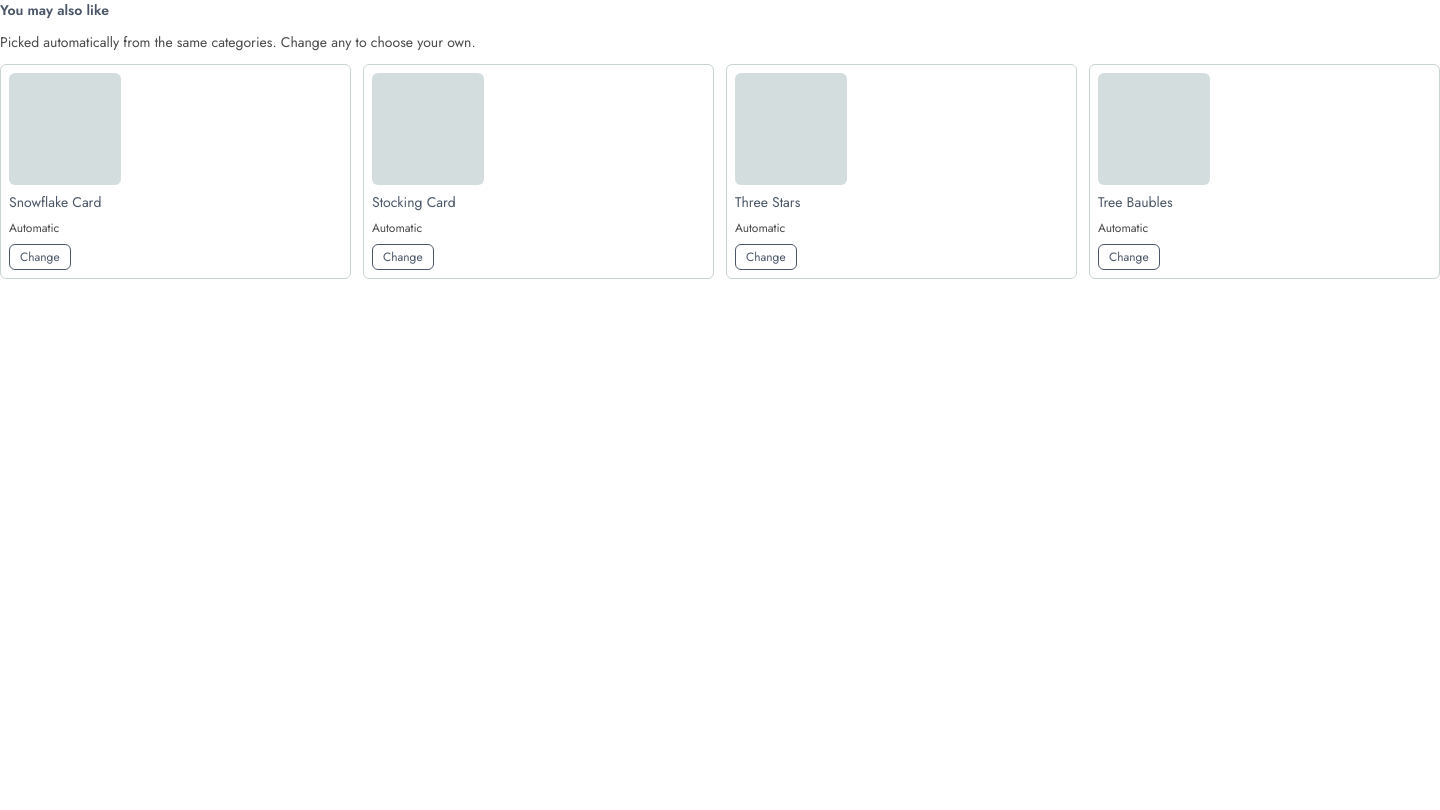
Scenario: AlsoLikeField › does not offer a piece already in the row
The image size is (1440, 810).
Click the button with aria-label "Change Snowflake Card" at x=40, y=257, box [9,244,71,270]
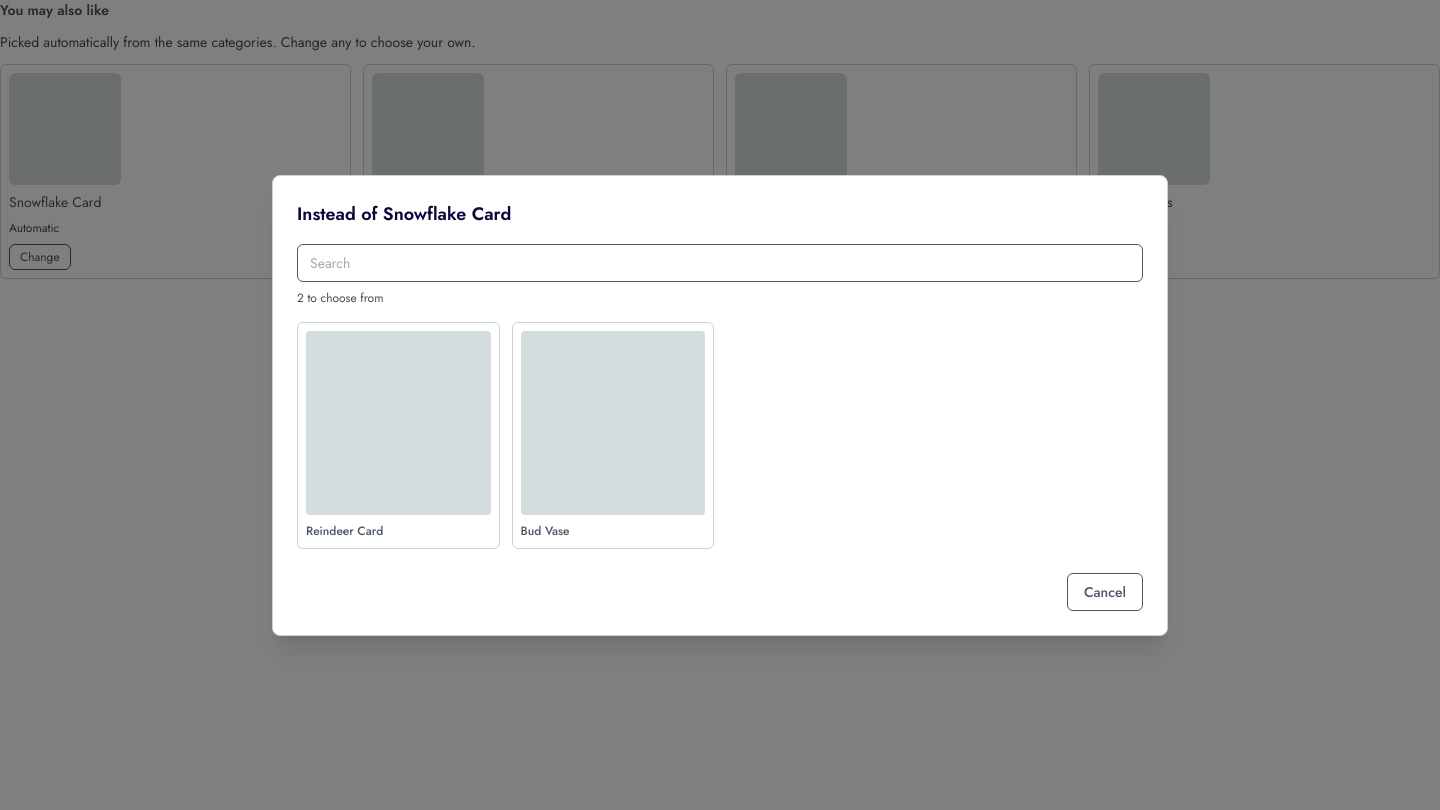
expect the button "Reindeer Card" is shown: met, box [297,322,500,548]
